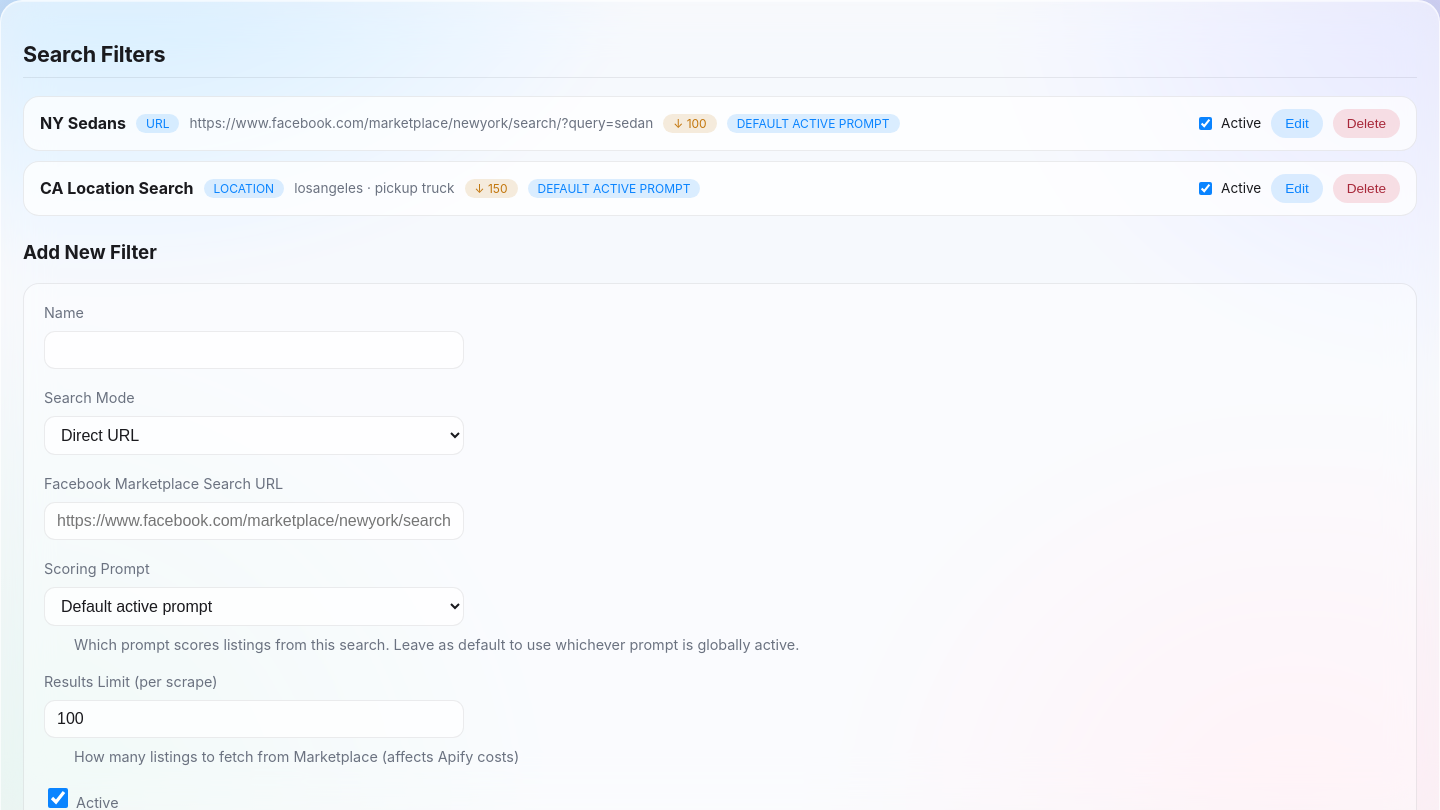
Scenario: SearchFiltersTab › resets form when cancel is clicked
Expected: the text "NY Sedans" is shown, x1=40 y1=113 x2=126 y2=133
Click the button "Edit" in the row of "100" at (1297, 123), box x1=1271 y1=109 x2=1323 y2=138
(page scrolled)
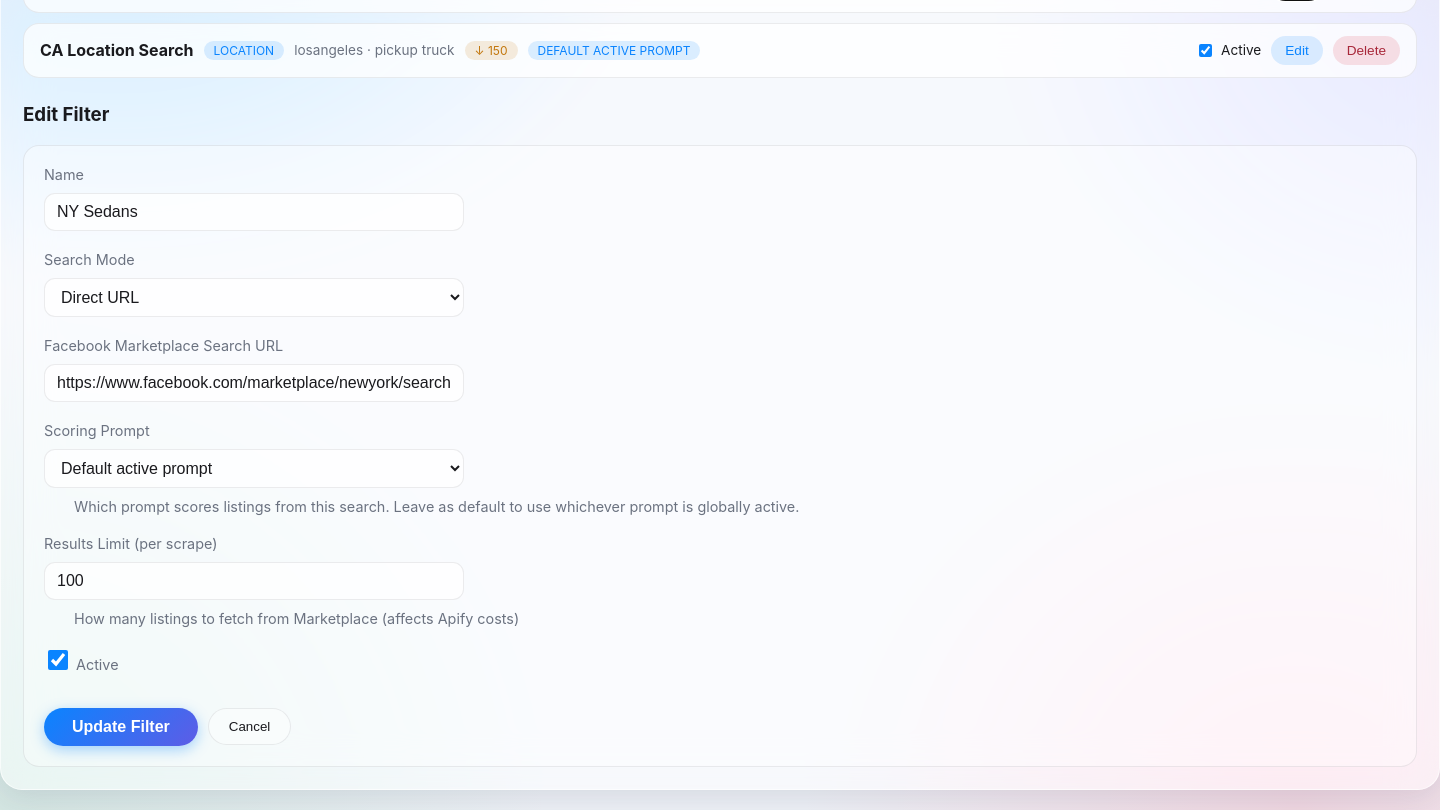
Expected: the field showing "NY Sedans" is shown, x1=44 y1=193 x2=464 y2=231
Click the button "Cancel" at (250, 727), box x1=208 y1=708 x2=291 y2=745
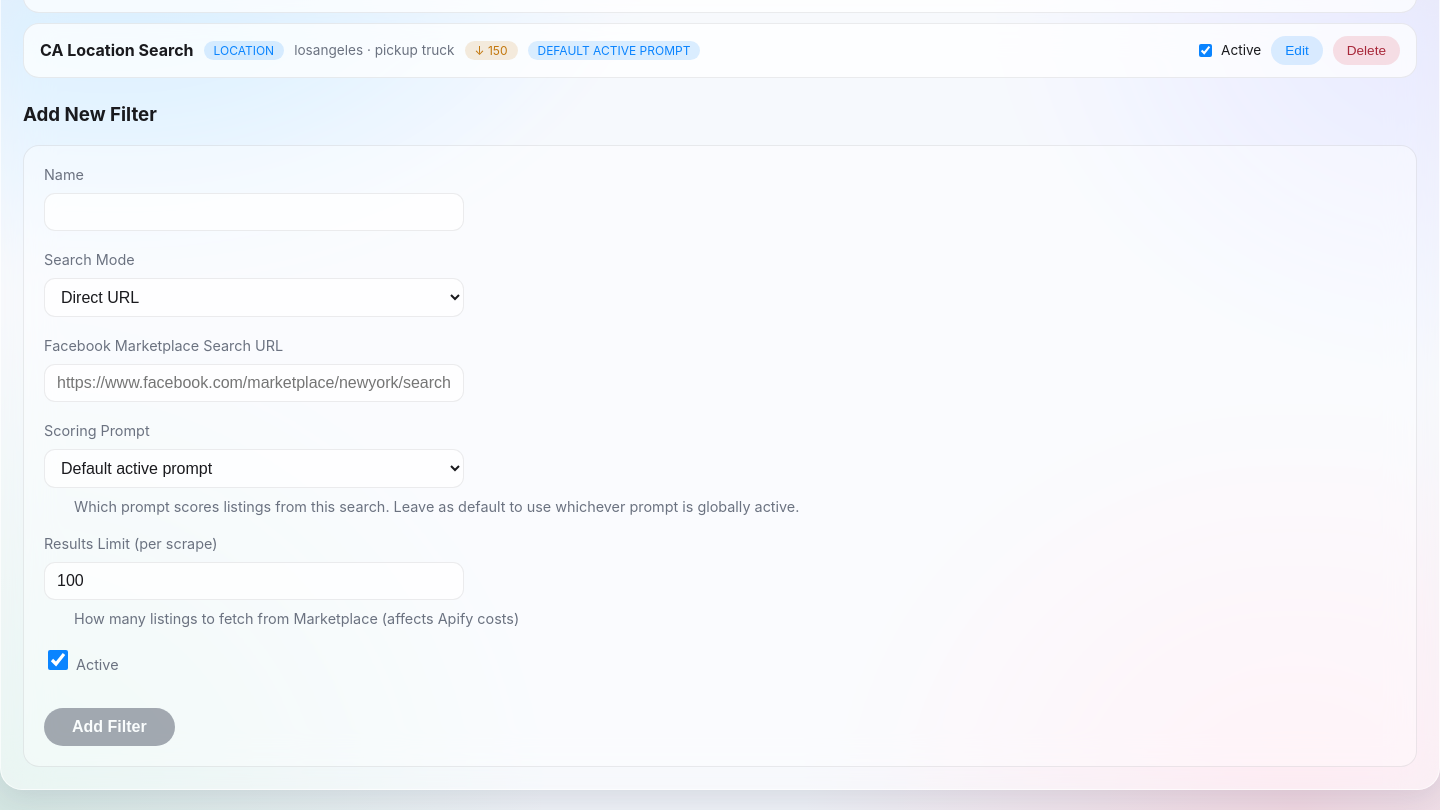
Expected: the button "Cancel" is gone
